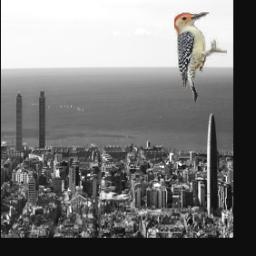Woodpecker: (174, 13, 227, 103)
